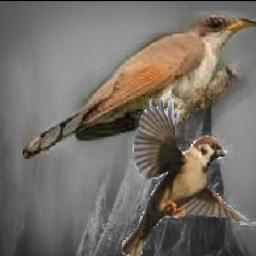Cuckoo: (23, 12, 256, 160)
Sparrow: (122, 95, 256, 256)
